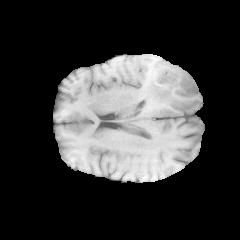glioma: (128, 62, 197, 113)
